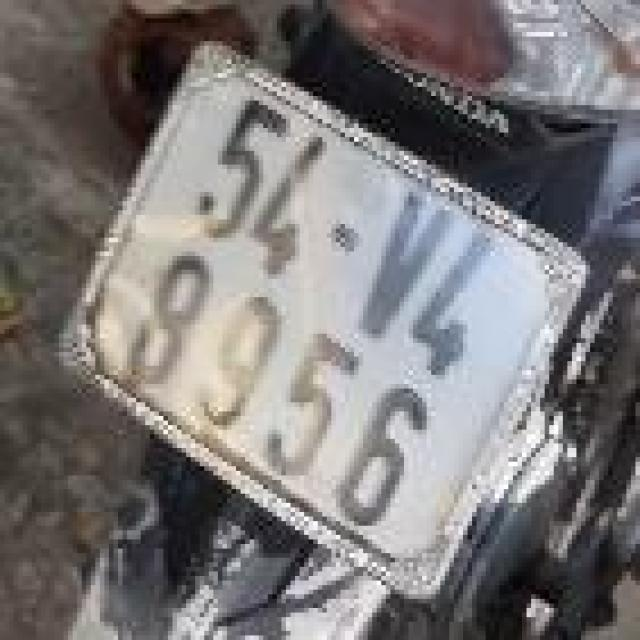4: (385, 205, 537, 399), (229, 114, 353, 291)
5: (174, 82, 308, 260), (252, 320, 380, 492)
6: (322, 365, 454, 547)
8: (109, 233, 234, 410)
9: (174, 277, 300, 449)
V: (339, 178, 471, 354)
